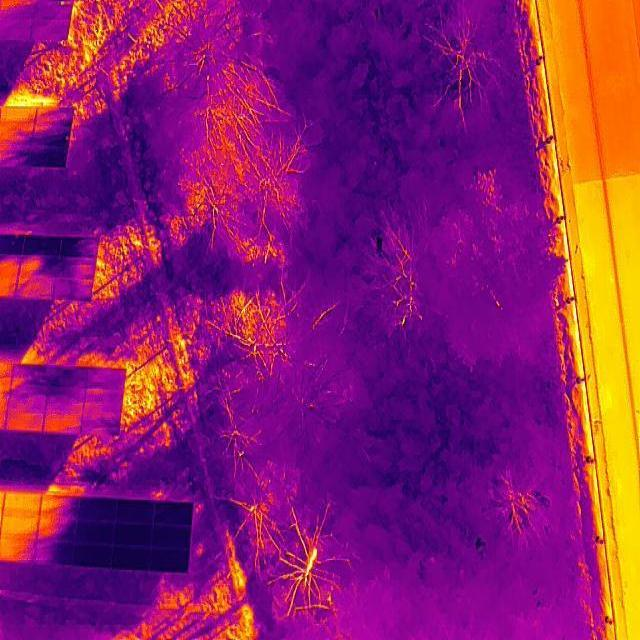No-Anomaly: (2, 492, 41, 516), (0, 516, 38, 538)
Shadowing: (46, 388, 85, 414), (37, 542, 76, 568), (84, 389, 122, 415), (80, 496, 118, 522), (119, 498, 157, 524), (155, 502, 193, 528), (112, 546, 153, 570), (49, 365, 88, 390), (7, 388, 47, 412), (37, 518, 77, 542), (76, 522, 116, 546), (116, 525, 154, 550), (40, 496, 81, 519), (15, 278, 54, 302), (12, 364, 50, 388), (0, 538, 38, 562), (57, 256, 96, 279), (44, 411, 83, 434), (75, 544, 112, 568), (18, 258, 58, 280), (81, 413, 121, 435), (6, 410, 45, 432), (32, 0, 72, 21), (154, 529, 191, 551), (153, 551, 188, 574), (30, 19, 68, 40), (35, 108, 74, 128), (56, 279, 91, 301), (32, 128, 70, 148), (87, 369, 123, 390), (23, 236, 60, 256), (29, 148, 65, 168), (60, 236, 97, 255)
